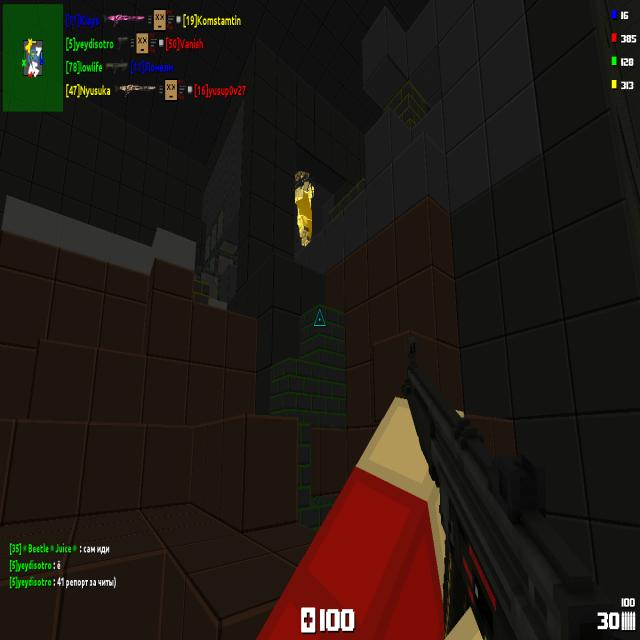enemy: (293, 164, 316, 250)
